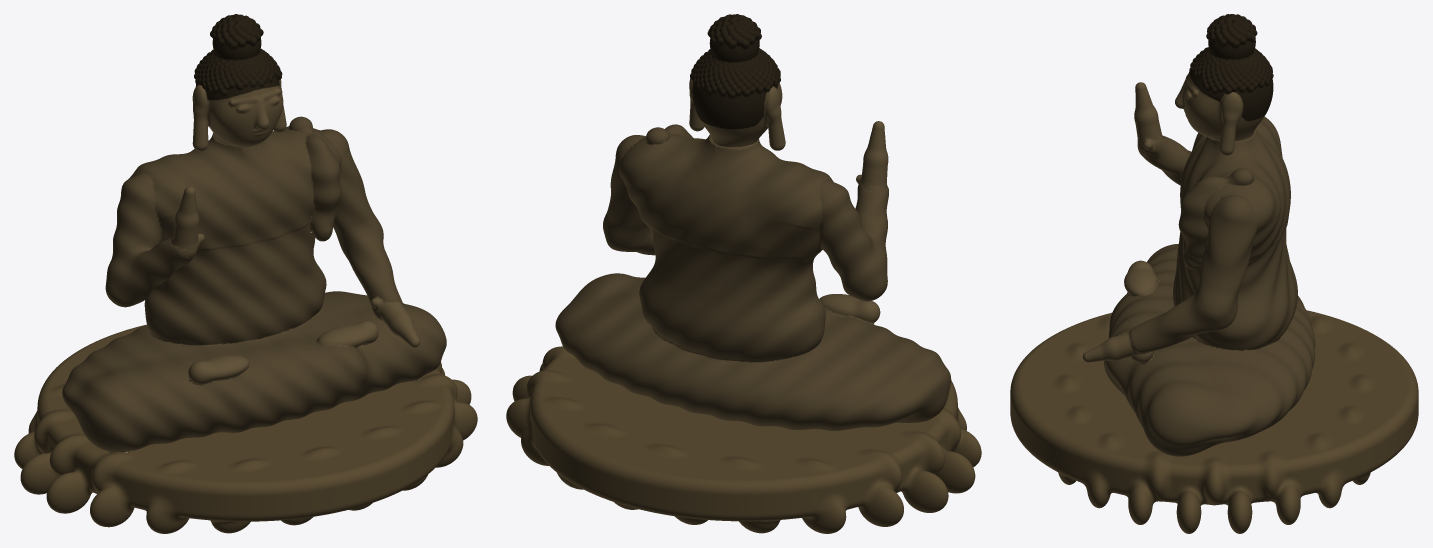
The model's file is mahayana.glb.
3 renders of one model, left to right at view 1: azimuth 30°, elevation 25°; view 2: azimuth 150°, elevation 25°; view 3: azimuth 270°, elevation 25°, orthographic. The views are drawn at different scales.
Visible parts, largest first — view 1: statue-mahayana; view 2: statue-mahayana; view 3: statue-mahayana.
Boxes of the visible parts, x1,y1,x2,y2 form: statue-mahayana: (14,14,477,533); statue-mahayana: (506,14,981,533); statue-mahayana: (1010,14,1418,533).
Bounding box in the file's own units: 1.36 × 1.34 × 1.16.
